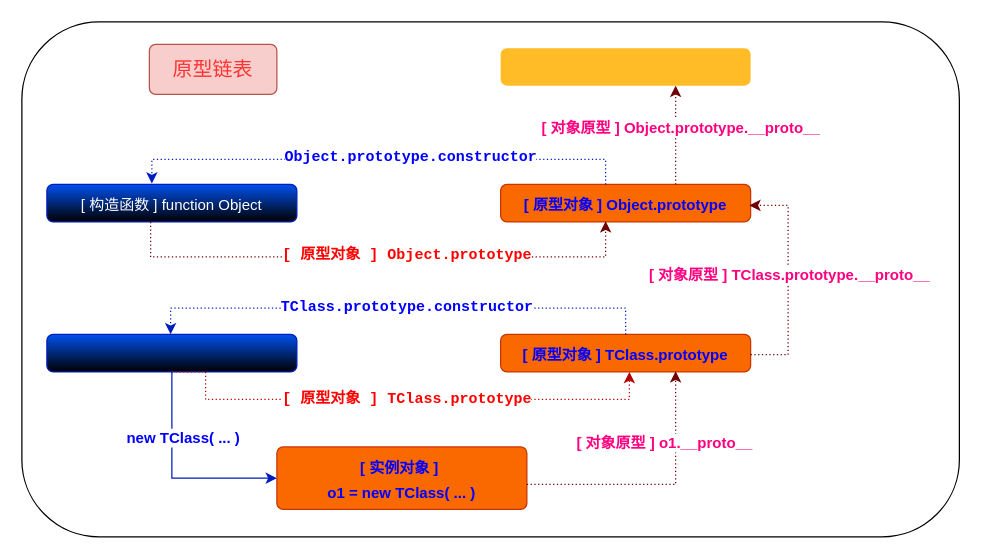
This 981x559 diagram has some shape labels left out. The box of each missing label's shape, as (x1, y1, x2, y2) in pixels:
[ 构造函数 ] function TClass: (46, 333, 297, 372)
Null: (500, 48, 750, 85)
